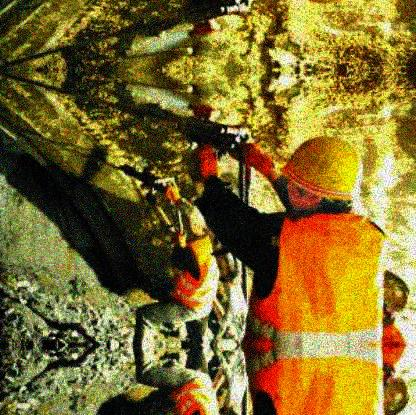helmet: (281, 137, 361, 217), (183, 204, 205, 237)
